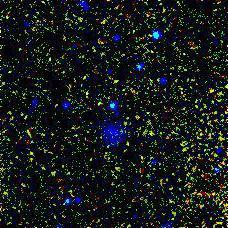star: (39, 47, 69, 77)
